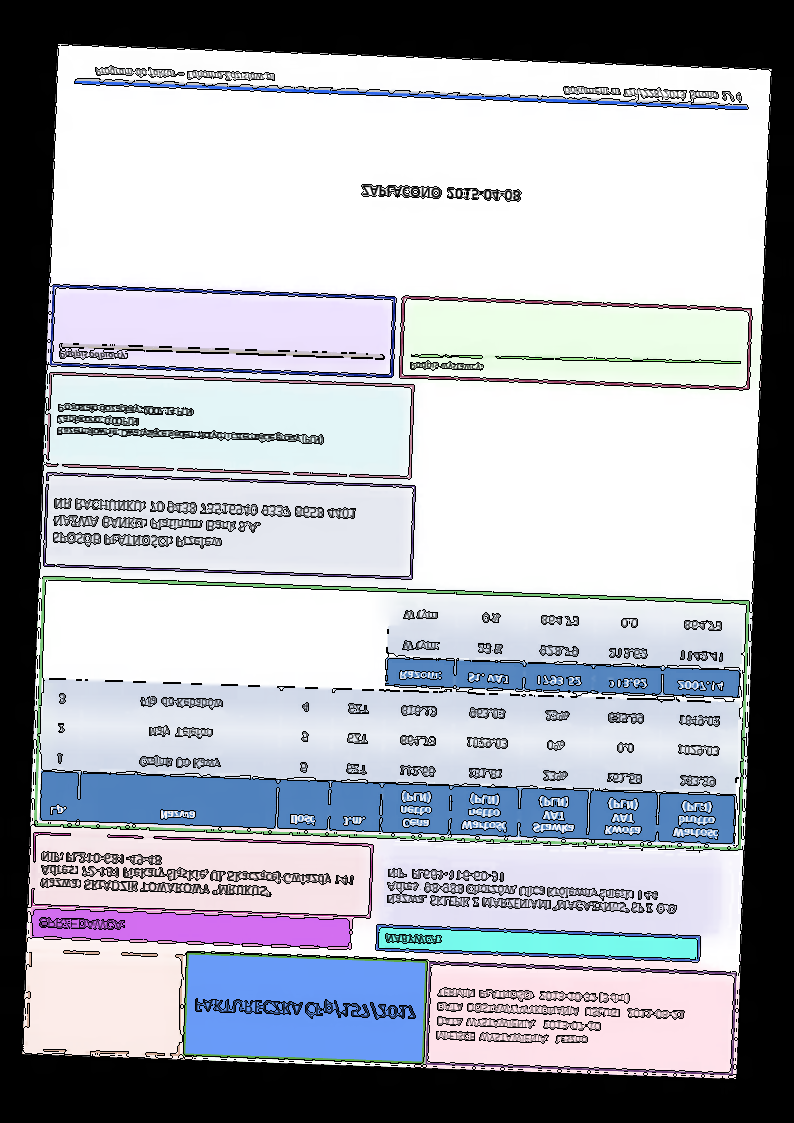Table: (37, 680, 738, 847), (383, 595, 745, 701)
TextBox: (47, 493, 360, 560), (37, 846, 356, 906), (430, 981, 689, 1053), (382, 863, 682, 920), (54, 400, 329, 450), (186, 991, 419, 1029), (89, 60, 277, 90), (354, 180, 525, 209), (561, 81, 748, 105), (34, 915, 127, 935), (55, 344, 131, 367), (402, 357, 485, 377), (382, 929, 442, 949)
